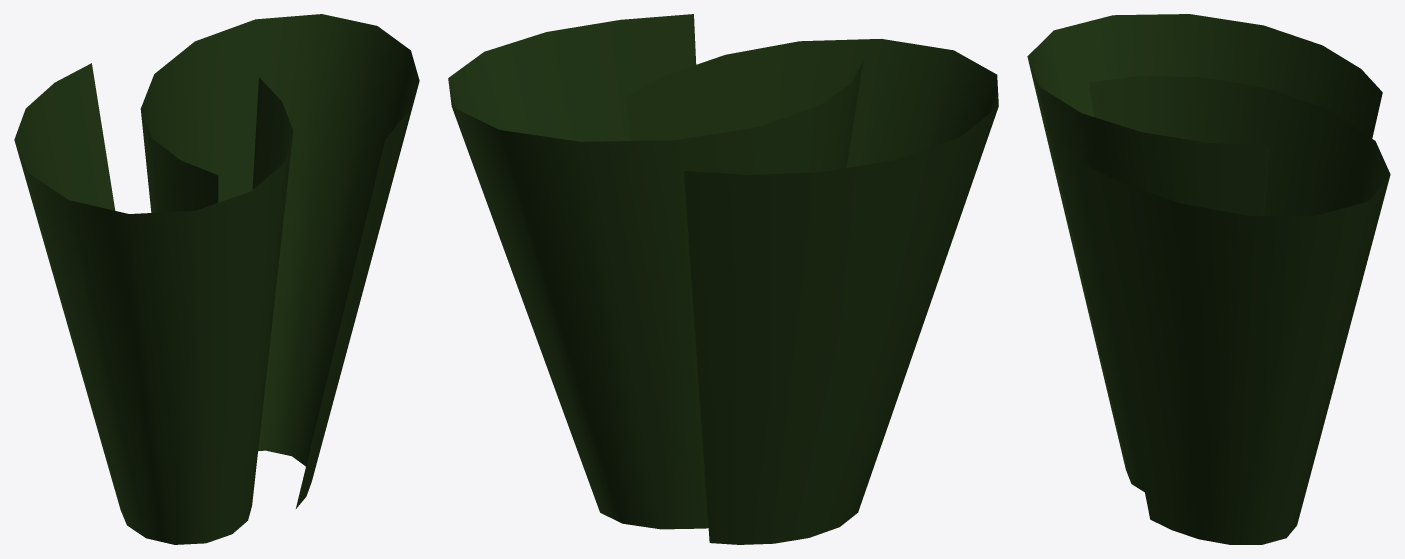
File: S_Grass_02.fbx
3 renders of one model, left to right at view 1: azimuth 30°, elevation 25°; view 2: azimuth 150°, elevation 25°; view 3: azimuth 270°, elevation 25°, orthographic. The views are drawn at different scales.
Visible parts, largest first — view 1: Plane005; view 2: Plane005; view 3: Plane005.
Boxes of the visible parts, left/top/right/bottom form: Plane005: left=14, top=14, right=419, bottom=544; Plane005: left=448, top=14, right=998, bottom=544; Plane005: left=1027, top=14, right=1390, bottom=544.
Size of the model in its own units: 11.17 by 9.91 by 8.49.
